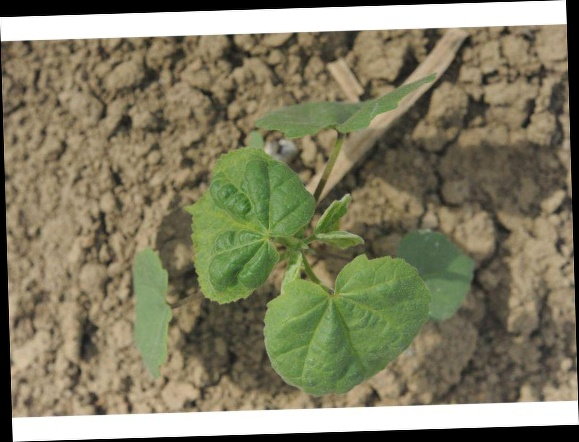velvet: (130, 76, 475, 399)
